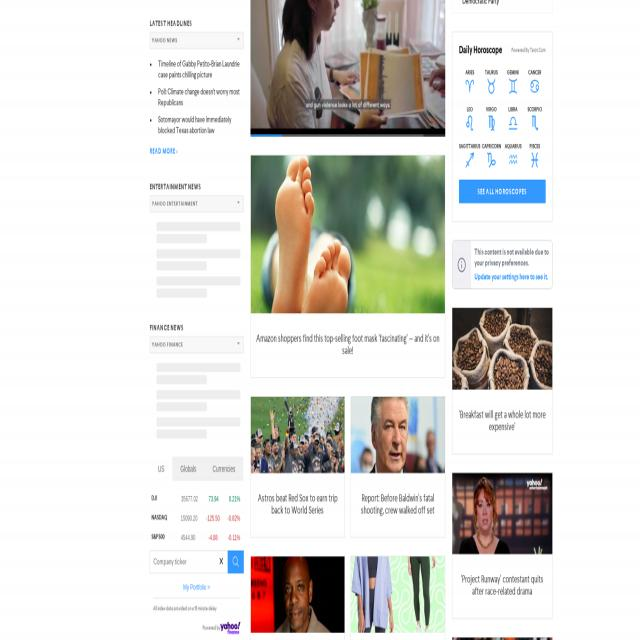button: (251, 156, 445, 379), (250, 0, 446, 137), (452, 474, 552, 621), (452, 308, 552, 454), (351, 396, 445, 537), (251, 396, 344, 536), (351, 555, 445, 633), (251, 557, 344, 633), (459, 180, 545, 203), (204, 457, 243, 481), (172, 457, 205, 481), (150, 457, 172, 481), (227, 552, 244, 573), (502, 152, 524, 168), (524, 152, 546, 168), (459, 152, 481, 168), (480, 152, 502, 168), (502, 116, 524, 131), (524, 116, 546, 131), (459, 116, 481, 131), (480, 116, 502, 131), (502, 79, 524, 94), (524, 79, 546, 94), (459, 79, 481, 94), (480, 79, 502, 94), (220, 622, 240, 634), (458, 258, 466, 272), (218, 558, 224, 566)
field: (150, 550, 228, 574), (150, 336, 243, 354), (150, 195, 243, 212), (150, 32, 243, 49)
